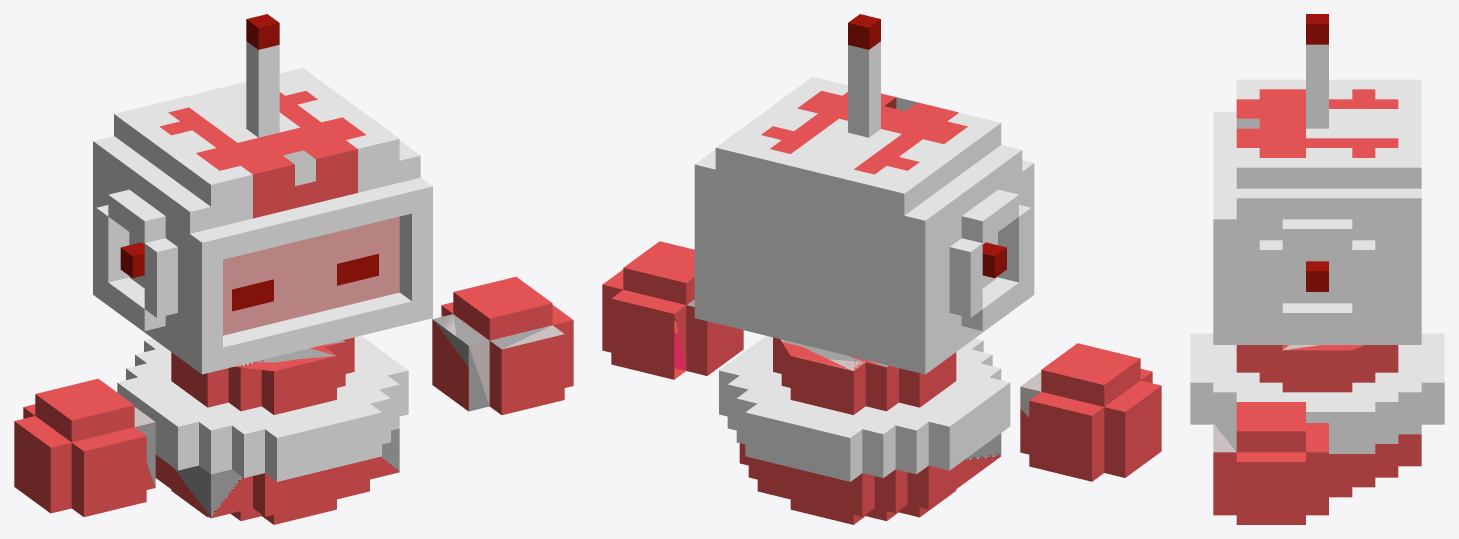
The model's file is RoboNPCModel.glb.
3 views of the same model, side by side, from view 1: azimuth 30°, elevation 25°; view 2: azimuth 150°, elevation 25°; view 3: azimuth 270°, elevation 25° (orthographic). The views are drawn at different scales.
Visible parts, largest first — view 1: CabeçaRoboBranco, TroncoRoboBranco, MaoDireitaRoboBranco, MaoEsquerdaRoboBranco; view 2: CabeçaRoboBranco, TroncoRoboBranco, MaoDireitaRoboBranco, MaoEsquerdaRoboBranco; view 3: CabeçaRoboBranco, TroncoRoboBranco, MaoEsquerdaRoboBranco.
Boxes of the visible parts, box(x1,y1,x2,y2) form: CabeçaRoboBranco: box(93, 14, 432, 374); TroncoRoboBranco: box(117, 336, 408, 524); MaoDireitaRoboBranco: box(14, 378, 155, 516); MaoEsquerdaRoboBranco: box(432, 276, 573, 414); CabeçaRoboBranco: box(694, 14, 1034, 374); TroncoRoboBranco: box(719, 336, 1010, 524); MaoDireitaRoboBranco: box(1020, 343, 1161, 481); MaoEsquerdaRoboBranco: box(602, 241, 743, 379); CabeçaRoboBranco: box(1213, 14, 1421, 344); TroncoRoboBranco: box(1190, 333, 1444, 497); MaoEsquerdaRoboBranco: box(1213, 402, 1328, 524).
Size of the model in its own units: 24.92 by 21.19 by 11.
1 material, 1 textured.
